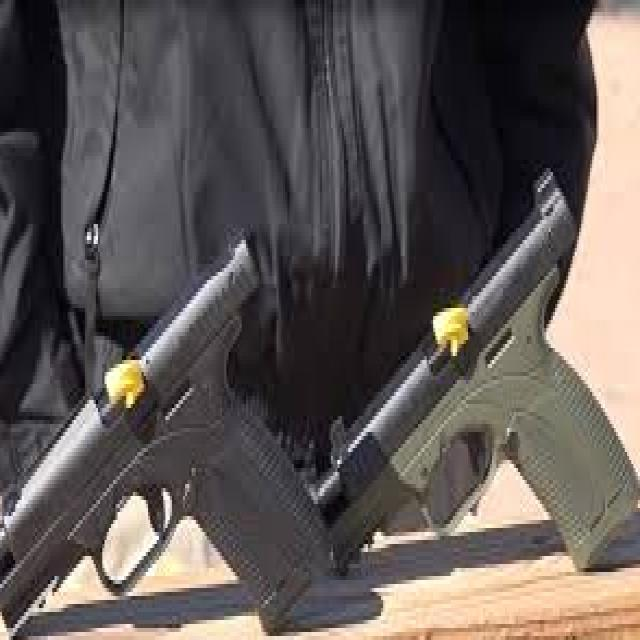Gun: (0, 200, 344, 640), (329, 168, 629, 622)
